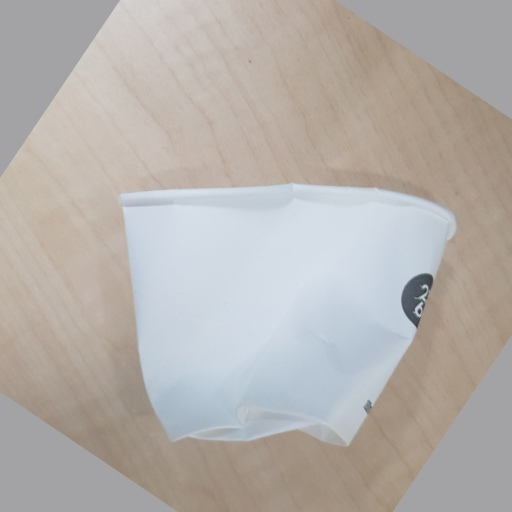Paper_1: (114, 176, 457, 452)
